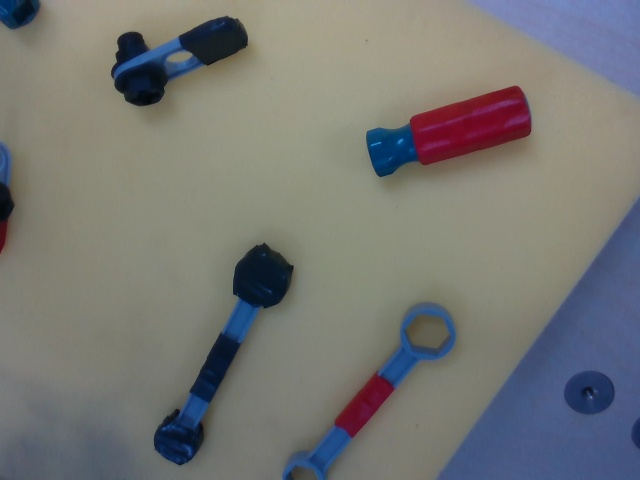part_1_good: (0, 138, 16, 260)
